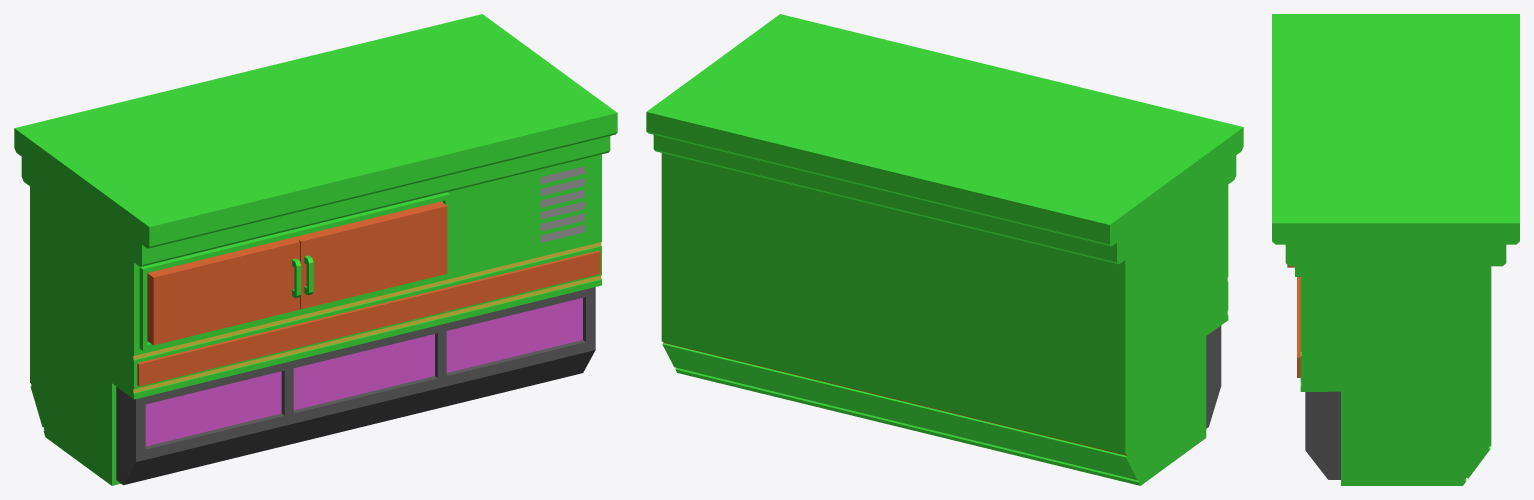
Rendered from Bar_Ceiling_01_Straight_B.fbx.
3 renders of one model, left to right at view 1: azimuth 30°, elevation 25°; view 2: azimuth 150°, elevation 25°; view 3: azimuth 270°, elevation 25°, orthographic. The views are drawn at different scales.
Visible parts, largest first — view 1: Bar_Ceiling_01_Straight_B; view 2: Bar_Ceiling_01_Straight_B; view 3: Bar_Ceiling_01_Straight_B.
Boxes of the visible parts, x1=… form: Bar_Ceiling_01_Straight_B: x1=14, y1=14, x2=617, y2=485; Bar_Ceiling_01_Straight_B: x1=646, y1=14, x2=1243, y2=485; Bar_Ceiling_01_Straight_B: x1=1272, y1=14, x2=1519, y2=485.
Size of the model in its own units: 183 by 107 by 91.44.
